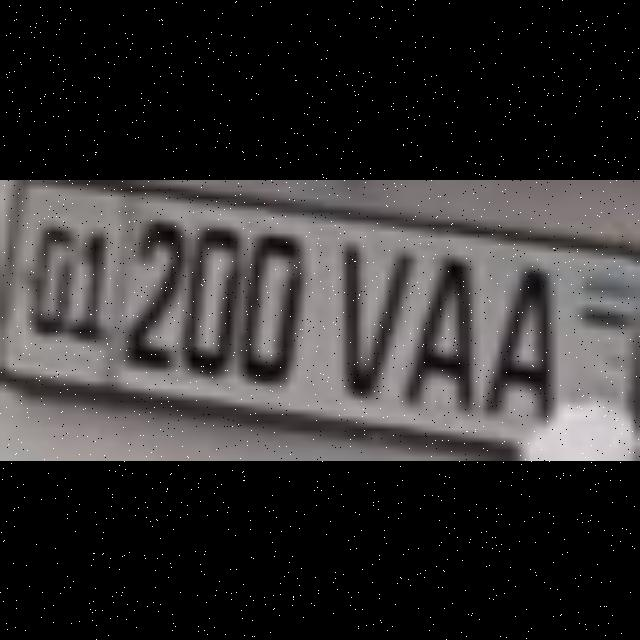0: (176, 214, 238, 370), (232, 221, 288, 369), (21, 214, 70, 326)
1: (70, 214, 106, 334)
2: (120, 207, 176, 355)
A: (478, 256, 548, 418), (401, 250, 471, 404)
V: (331, 235, 401, 383)
